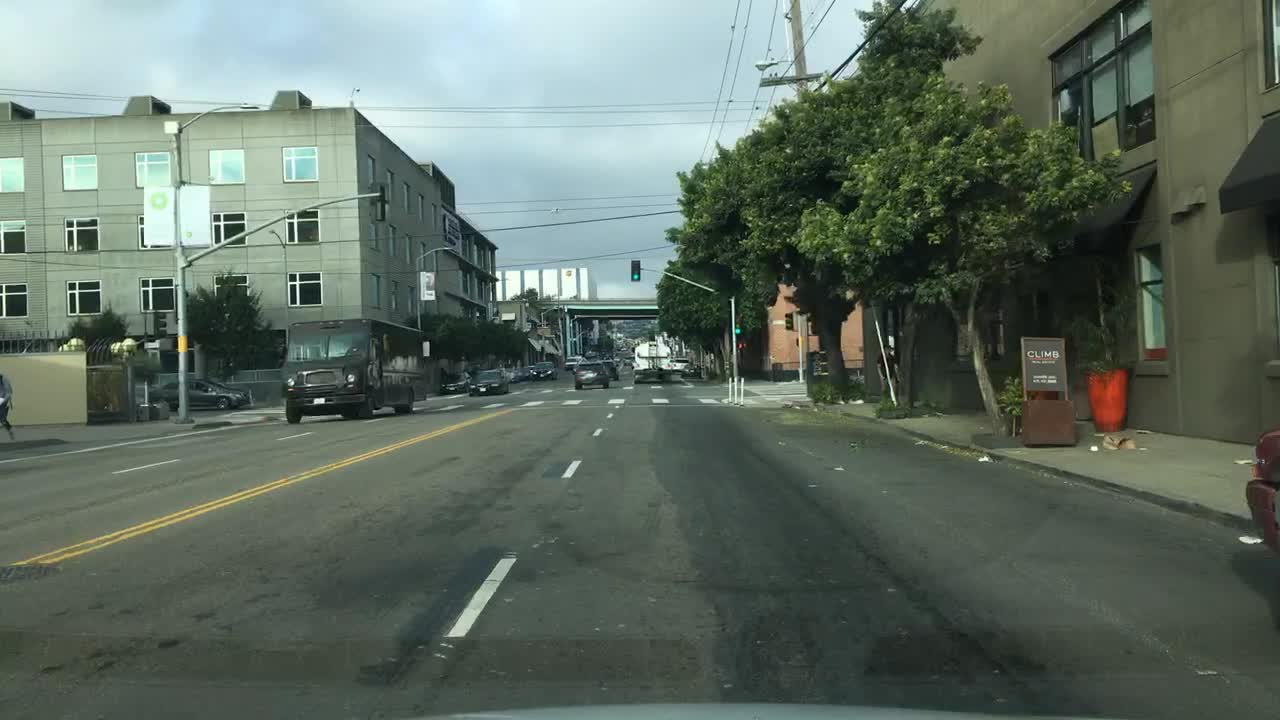bus: (282, 315, 428, 424)
car: (1240, 422, 1277, 551), (158, 374, 251, 410), (108, 381, 170, 420), (461, 366, 511, 395), (571, 358, 609, 389), (436, 368, 471, 394), (526, 359, 558, 381), (596, 358, 619, 381), (668, 355, 688, 372), (678, 362, 700, 377), (503, 367, 523, 382), (562, 355, 579, 370), (583, 349, 600, 362), (518, 365, 533, 379), (611, 353, 622, 365), (573, 353, 585, 362), (623, 356, 633, 366)
person: (0, 372, 16, 441)
traffic light: (783, 310, 798, 332), (629, 258, 641, 282), (733, 314, 742, 334)
traffic sign: (140, 182, 213, 247), (419, 270, 435, 299), (422, 339, 432, 357)
truck: (628, 334, 673, 384)
